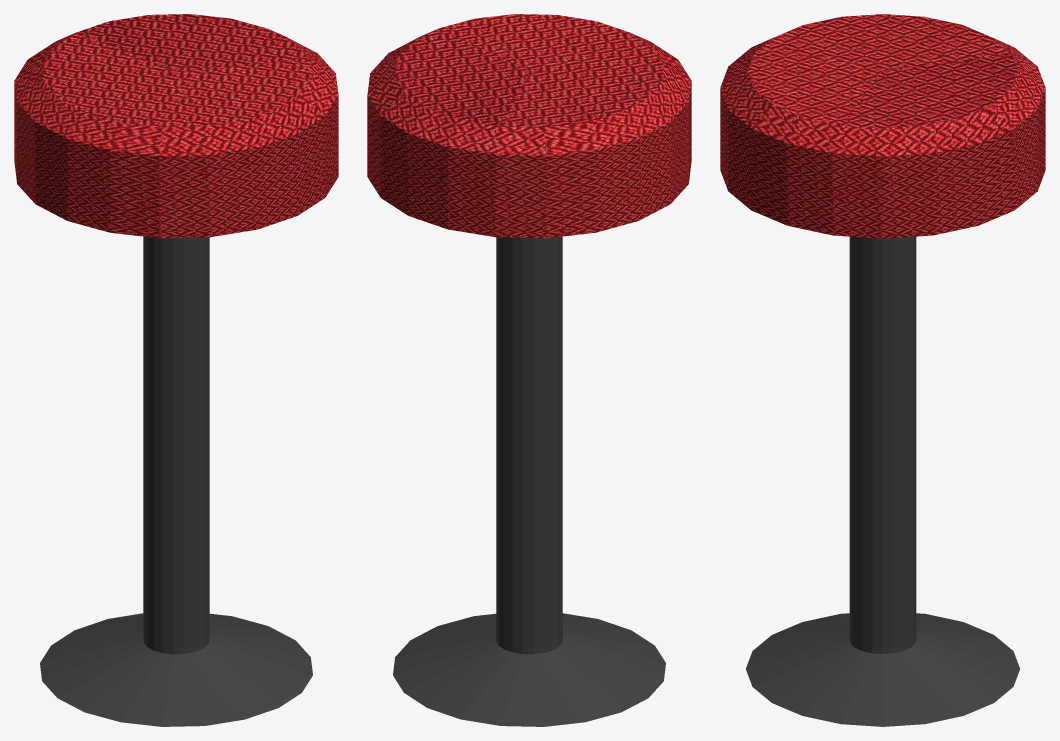
Rendered from stool.fbx.
3 views of the same model, side by side, from view 1: azimuth 30°, elevation 25°; view 2: azimuth 150°, elevation 25°; view 3: azimuth 270°, elevation 25° (orthographic).
Visible parts, largest first — view 1: pCylinder3; view 2: pCylinder3; view 3: pCylinder3.
Boxes of the visible parts, x1,y1,x2,y2 form: pCylinder3: [14, 14, 338, 726]; pCylinder3: [367, 14, 691, 726]; pCylinder3: [720, 14, 1045, 726].
Bounding box in the file's own units: 4.29 × 8.69 × 4.29.
2 materials, 1 textured.
